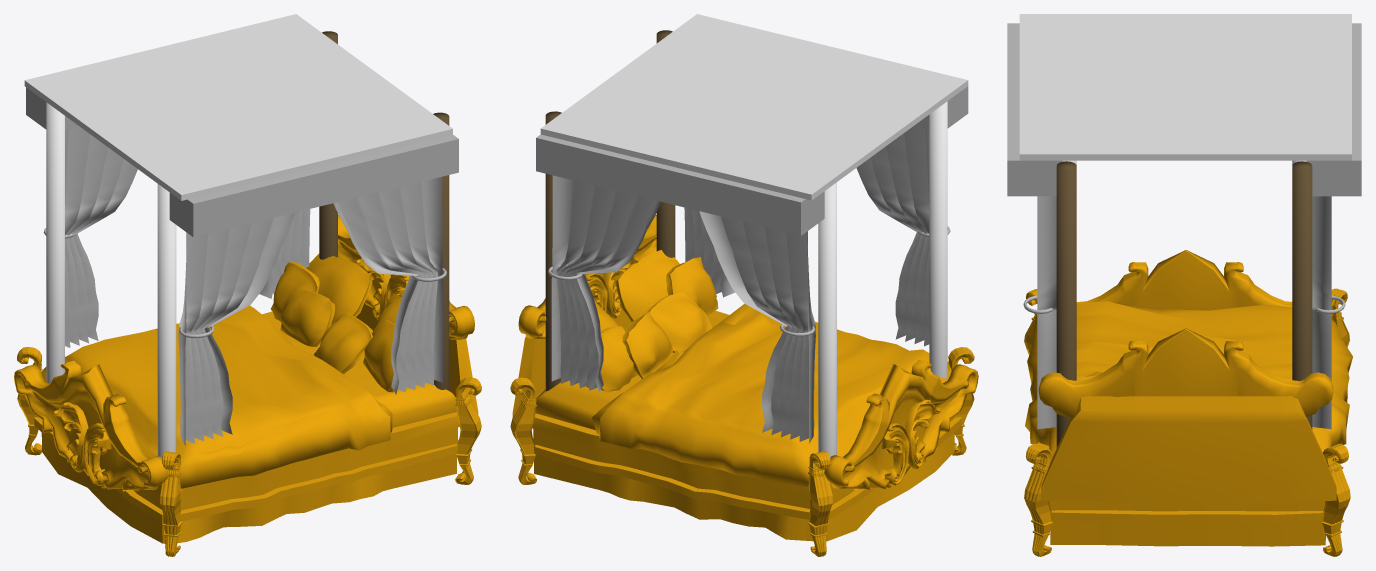
Rendered from Himmelsbett.fbx.
3 views of the same model, side by side, from view 1: azimuth 30°, elevation 25°; view 2: azimuth 150°, elevation 25°; view 3: azimuth 270°, elevation 25° (orthographic). The views are drawn at different scales.
Visible parts, largest first — view 1: camaDormitorio_0008:camaPrincipal, pPlane5, Cube, Cylinder, camaDormitorio_0008:cabecero2, Cylinder.001, camaDormitorio_0008:almohada, camaDormitorio_0008:almohada4, camaDormitorio_0008:almohada2, moldurasArmario11, moldurasArmario9, camaDormitorio_0008:cabecero1 (+6 smaller); view 2: camaDormitorio_0008:camaPrincipal, pPlane5, Cube, Cylinder, camaDormitorio_0008:cabecero2, Cylinder.001, camaDormitorio_0008:almohada3, camaDormitorio_0008:almohada2, camaDormitorio_0008:almohada4, moldurasArmario10, moldurasArmario12, camaDormitorio_0008:almohada1 (+6 smaller); view 3: camaDormitorio_0008:camaPrincipal, Cube, pPlane5, camaDormitorio_0008:cabecero1, Cylinder.001, camaDormitorio_0008:cabecero2, moldurasArmario11, moldurasArmario12, moldurasArmario10.
Part boxes in pixels (left/top/right/bottom): camaDormitorio_0008:camaPrincipal: left=34, top=302, right=478, bottom=543; pPlane5: left=26, top=87, right=458, bottom=445; Cube: left=24, top=14, right=452, bottom=200; Cylinder: left=46, top=102, right=176, bottom=457; camaDormitorio_0008:cabecero2: left=14, top=360, right=168, bottom=491; Cylinder.001: left=319, top=31, right=449, bottom=390; camaDormitorio_0008:almohada: left=306, top=253, right=372, bottom=324; camaDormitorio_0008:almohada4: left=280, top=288, right=334, bottom=346; camaDormitorio_0008:almohada2: left=313, top=313, right=372, bottom=373; moldurasArmario11: left=455, top=377, right=481, bottom=484; moldurasArmario9: left=160, top=451, right=182, bottom=556; camaDormitorio_0008:cabecero1: left=338, top=215, right=474, bottom=339; camaDormitorio_0008:camaPrincipal: left=512, top=304, right=961, bottom=541; pPlane5: left=536, top=86, right=968, bottom=443; Cube: left=540, top=14, right=968, bottom=200; Cylinder: left=818, top=101, right=947, bottom=457; camaDormitorio_0008:cabecero2: left=824, top=360, right=978, bottom=490; Cylinder.001: left=545, top=30, right=675, bottom=391; camaDormitorio_0008:almohada3: left=615, top=250, right=679, bottom=321; camaDormitorio_0008:almohada2: left=646, top=292, right=712, bottom=353; camaDormitorio_0008:almohada4: left=622, top=312, right=672, bottom=378; moldurasArmario10: left=808, top=451, right=832, bottom=556; moldurasArmario12: left=510, top=377, right=537, bottom=484; camaDormitorio_0008:almohada1: left=666, top=257, right=718, bottom=316; camaDormitorio_0008:camaPrincipal: left=1025, top=301, right=1352, bottom=546; Cube: left=1019, top=14, right=1351, bottom=160; pPlane5: left=1007, top=23, right=1361, bottom=429; camaDormitorio_0008:cabecero1: left=1038, top=328, right=1333, bottom=418; Cylinder.001: left=1056, top=161, right=1312, bottom=447; camaDormitorio_0008:cabecero2: left=1076, top=250, right=1292, bottom=309; moldurasArmario11: left=1024, top=443, right=1052, bottom=556; moldurasArmario12: left=1321, top=443, right=1350, bottom=556; moldurasArmario10: left=1331, top=288, right=1349, bottom=347.
Size of the model in its own units: 1259 by 1292 by 1067.
